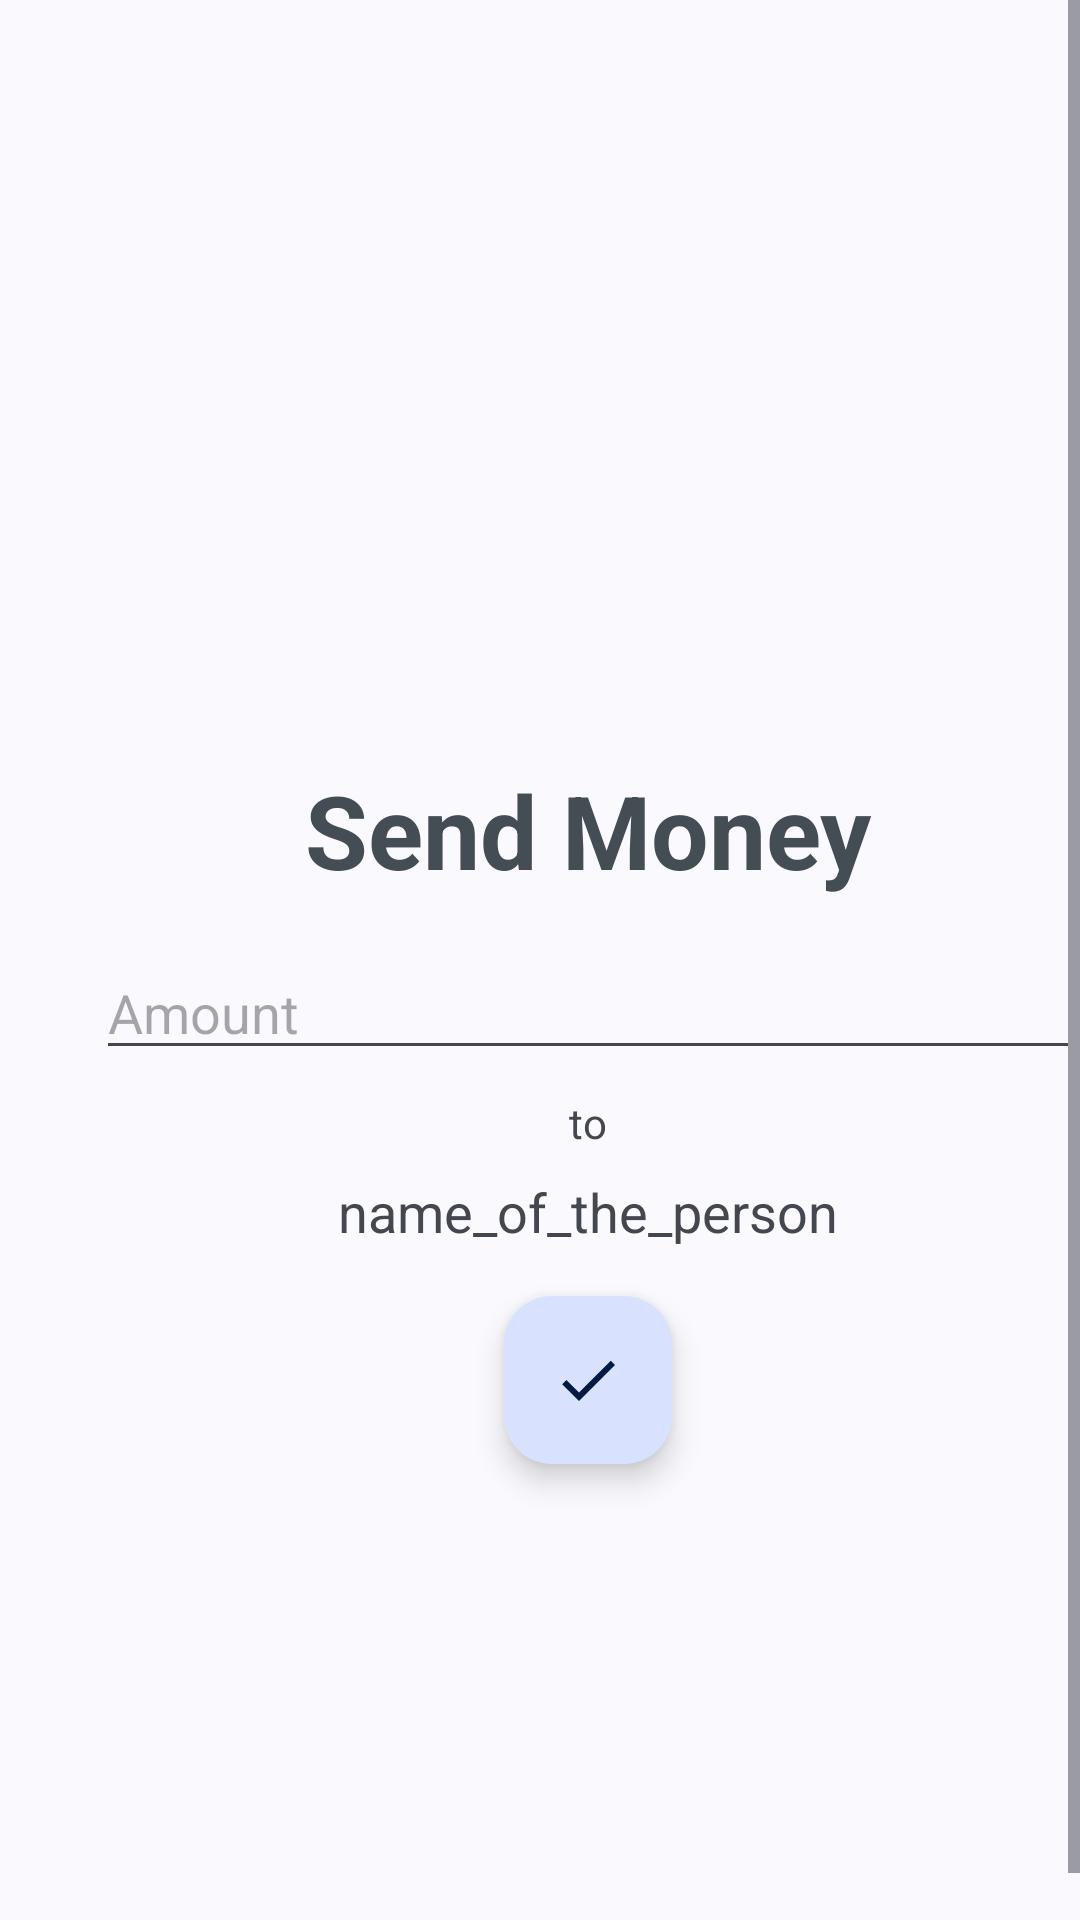

Named icons in this screenshot (1080px×1920px) and their bounding boxes, (x1, y1, x2, y2):
done: (504, 1296, 672, 1464)
